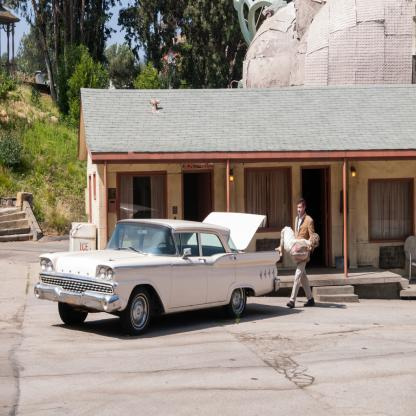Car: (36, 212, 282, 337)
